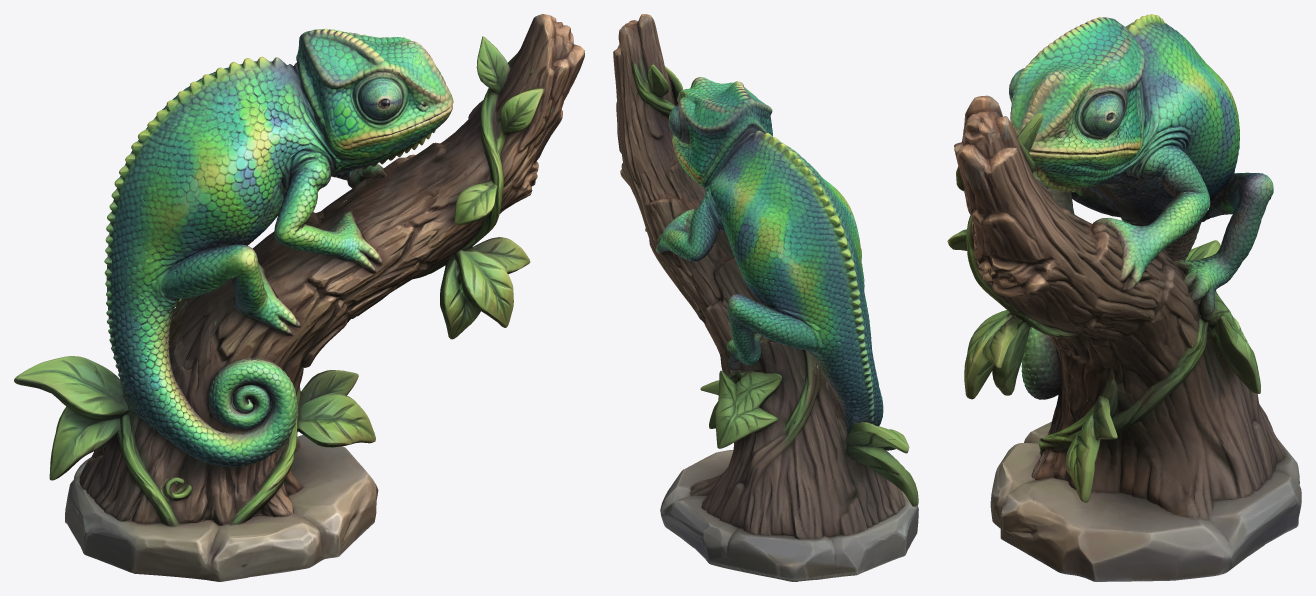
File: emerald_chameleon.glb
3 renders of one model, left to right at view 1: azimuth 30°, elevation 25°; view 2: azimuth 150°, elevation 25°; view 3: azimuth 270°, elevation 25°, orthographic. The views are drawn at different scales.
Parts seen in each view (by area): view 1: output_unwrapped; view 2: output_unwrapped; view 3: output_unwrapped.
Boxes of the visible parts, left/top/right/bottom form: output_unwrapped: left=14, top=14, right=584, bottom=581; output_unwrapped: left=613, top=14, right=918, bottom=581; output_unwrapped: left=947, top=14, right=1301, bottom=581.
Size of the model in its own units: 1.82 by 1.9 by 1.11.
Materials: 1 (1 with a texture image).
